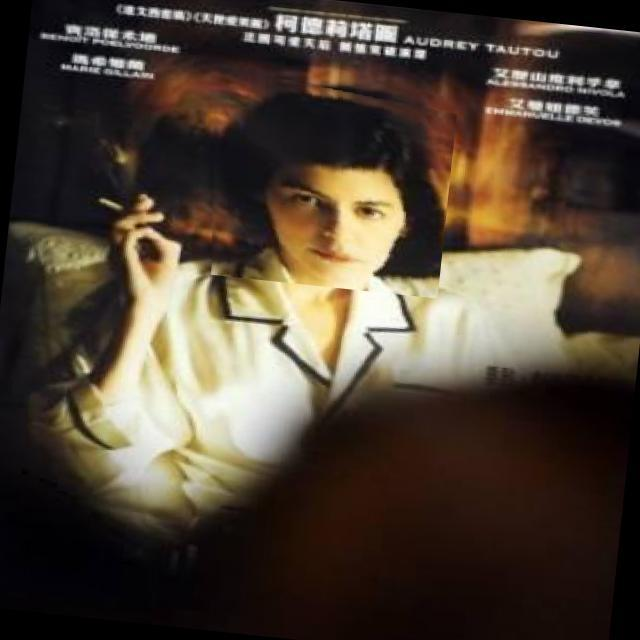cigarette: (74, 182, 148, 221)
